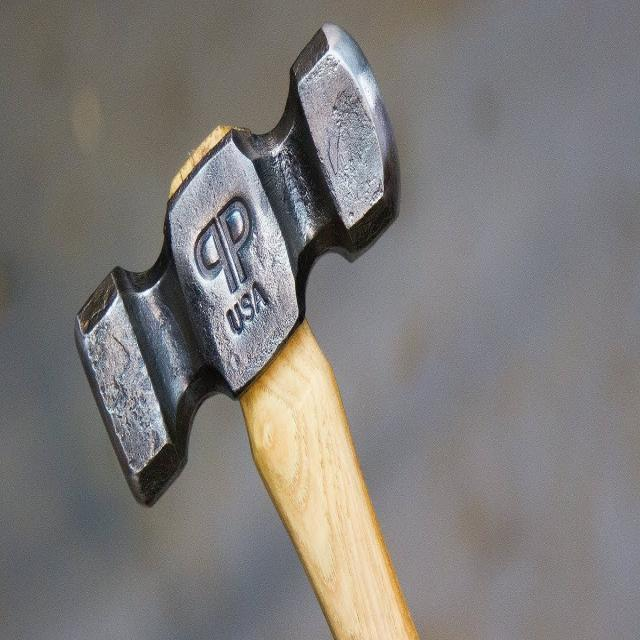hammer: (72, 16, 424, 640)
